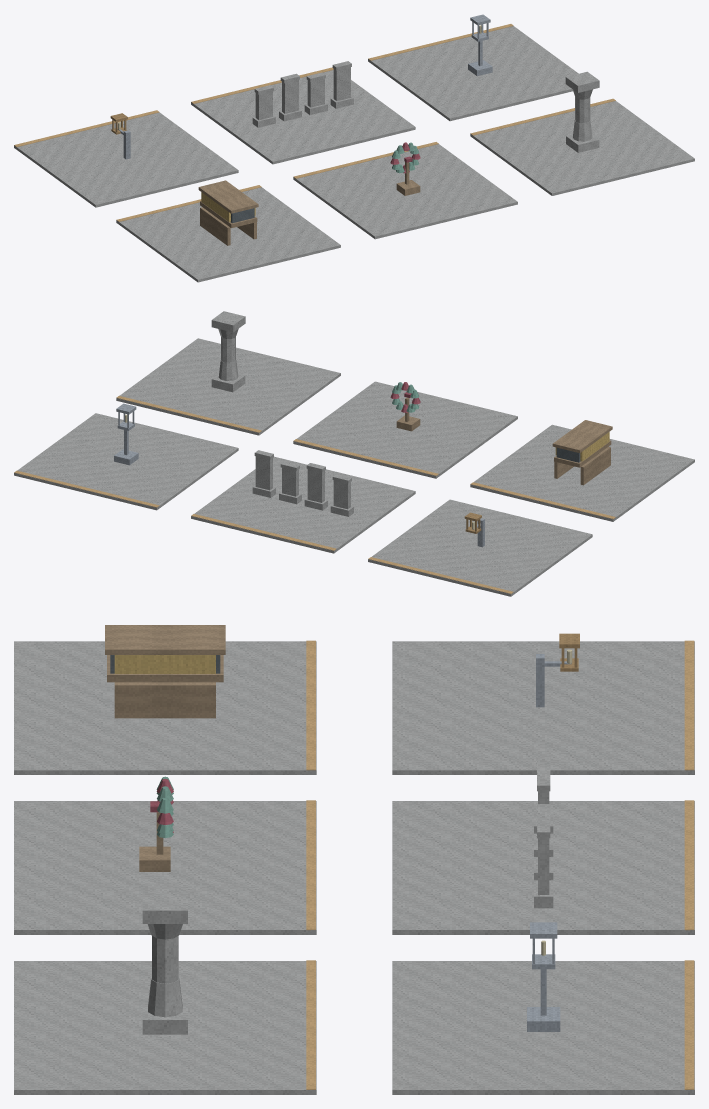
Rendered from level_blockout_kit_wld_07_p04.glb.
The picture shows the model from 3 angles, top to bottom: view 1: azimuth 30°, elevation 25°; view 2: azimuth 150°, elevation 25°; view 3: azimuth 270°, elevation 25°; orthographic projection. The views are drawn at different scales.
Parts seen in each view (by area): view 1: level_blockout_kit_wld_07_p04; view 2: level_blockout_kit_wld_07_p04; view 3: level_blockout_kit_wld_07_p04.
Part boxes in pixels (x1=…): level_blockout_kit_wld_07_p04: x1=14, y1=14, x2=694, y2=282; level_blockout_kit_wld_07_p04: x1=14, y1=311, x2=694, y2=596; level_blockout_kit_wld_07_p04: x1=14, y1=625, x2=694, y2=1094.
Bounding box in the file's own units: 19.65 × 2.65 × 12.6.
10 materials, 10 textured.
